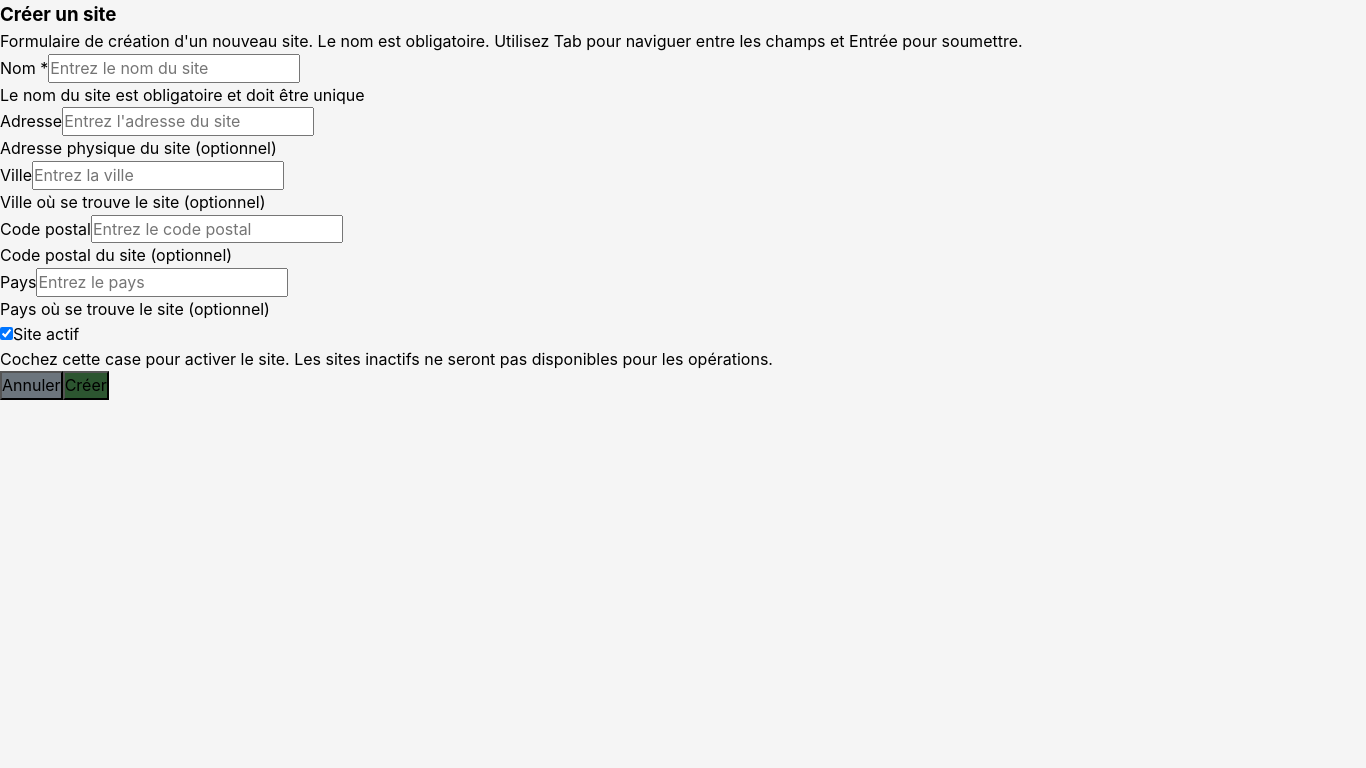
Test case: SiteForm Component › Loading States › should show loading state during submission
The width and height of the screenshot is (1366, 768).
Fill required field
In the field labelled "Nom *": (174, 68) [48,54,300,83], type "Nouveau Site"
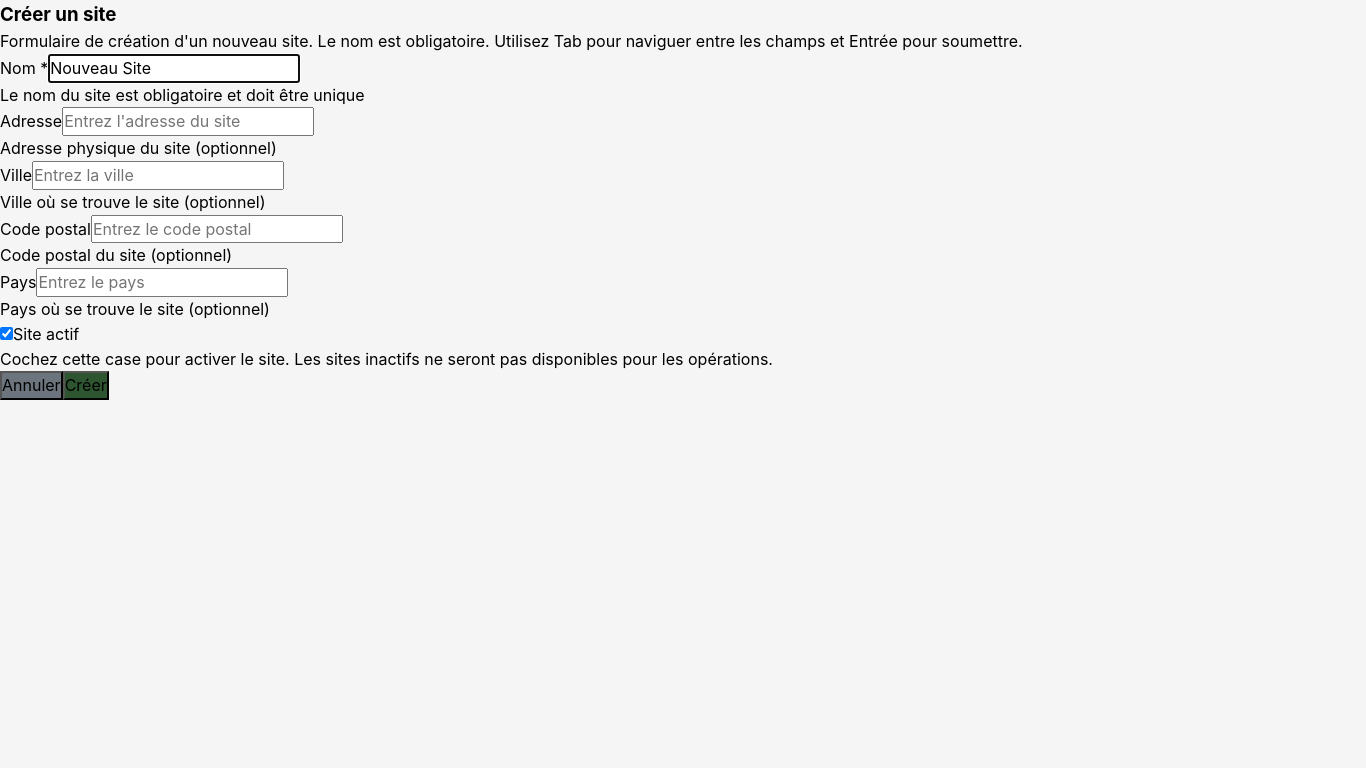
Submit form
Click the button "Créer": (86, 386) [63,371,109,400]
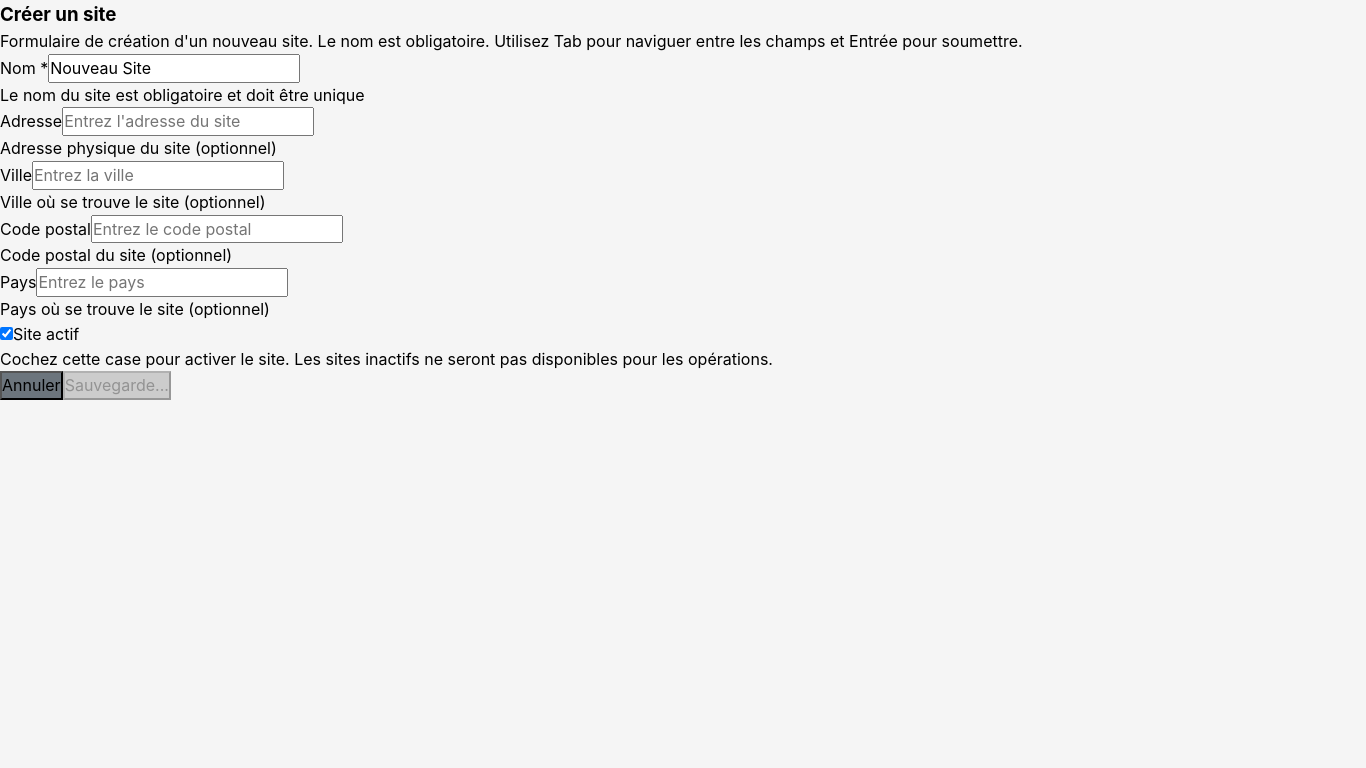
Expected: the button "Sauvegarde..." is disabled, [63,371,171,400]
